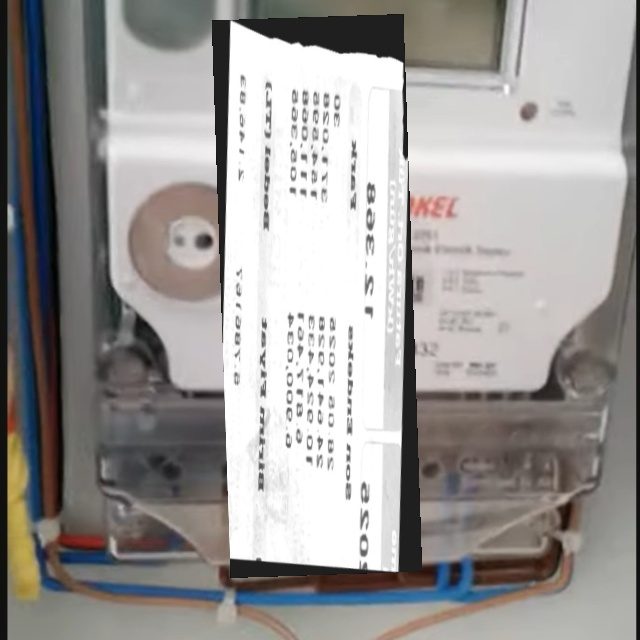electricity-bill: (211, 14, 421, 578)
